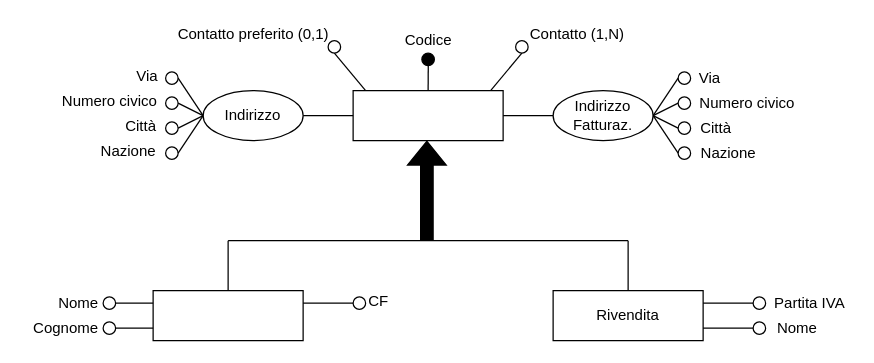
Image size: 874x363. Some labels were removed from this diagram. The shapes that lost their labels are listed below. From the top down, each one's box as (x1, y1, x2, y2) in pixels, then its label:
(352, 89, 503, 141): Cliente
(152, 289, 303, 341): Cliente privato
